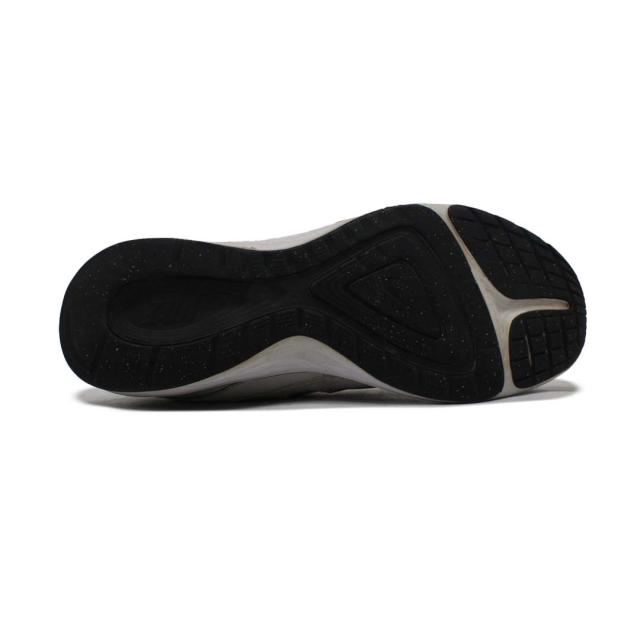outersole: (58, 201, 589, 401)
